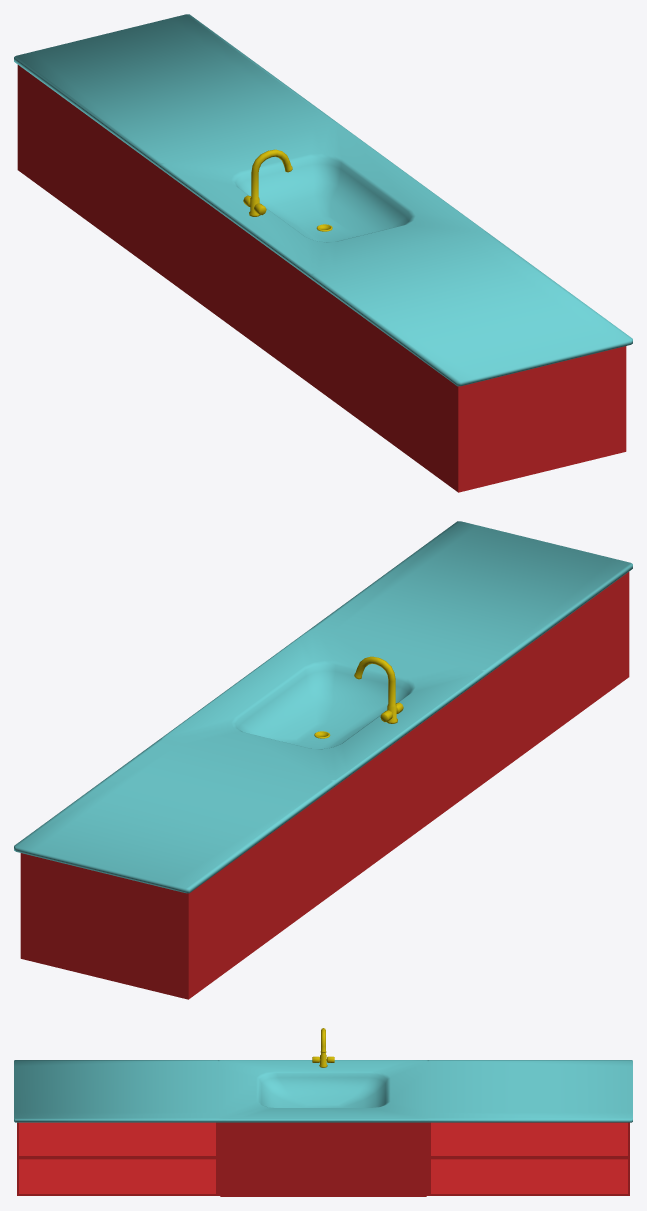
The model's file is MOD_FUR_Bathroom_counter_01.fbx.
3 views of the same model, one above another, from view 1: azimuth 30°, elevation 25°; view 2: azimuth 150°, elevation 25°; view 3: azimuth 270°, elevation 25° (orthographic). The views are drawn at different scales.
Visible parts, largest first — view 1: HSHP_MOD_Bathroom_counter_01; view 2: HSHP_MOD_Bathroom_counter_01; view 3: HSHP_MOD_Bathroom_counter_01.
Boxes of the visible parts, <box> form: HSHP_MOD_Bathroom_counter_01: <box>14,14,632,492</box>; HSHP_MOD_Bathroom_counter_01: <box>14,521,632,999</box>; HSHP_MOD_Bathroom_counter_01: <box>14,1028,632,1196</box>.
Bounding box in the file's own units: 0.6516 × 0.6135 × 2.86.
